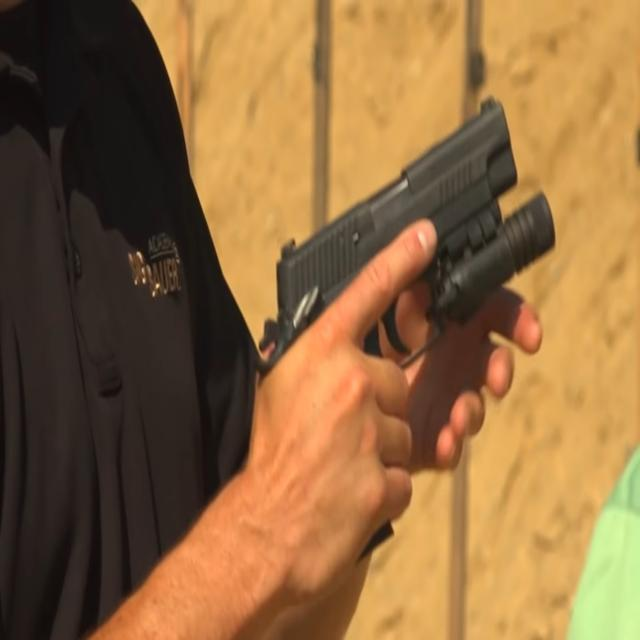Gun_Holder: (246, 90, 568, 586)
